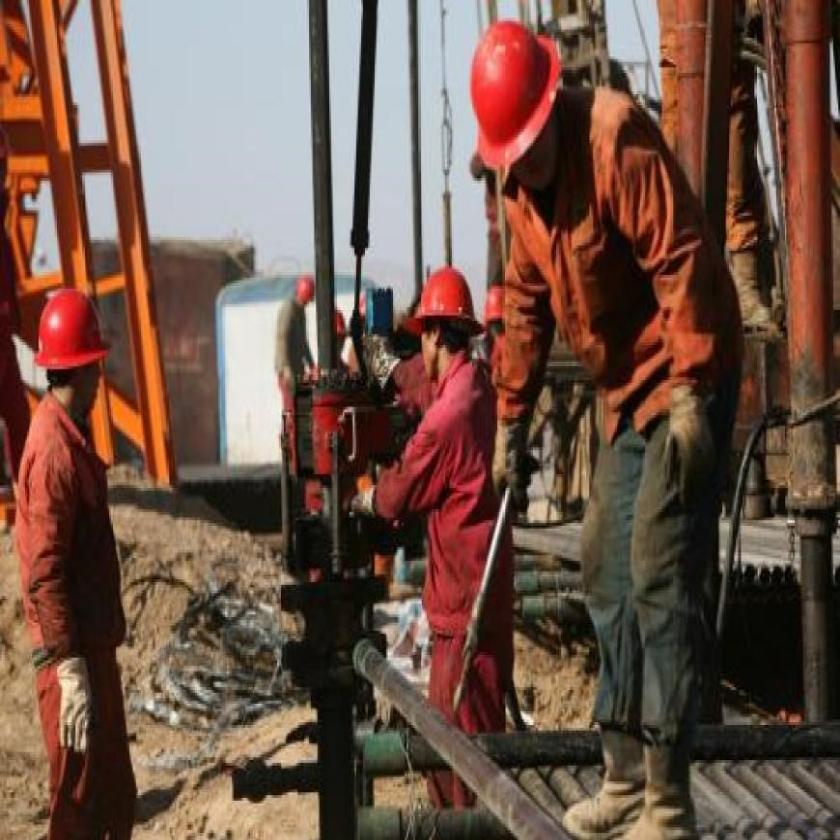Con_casco: (458, 13, 578, 215), (31, 286, 118, 422), (406, 267, 490, 376)
